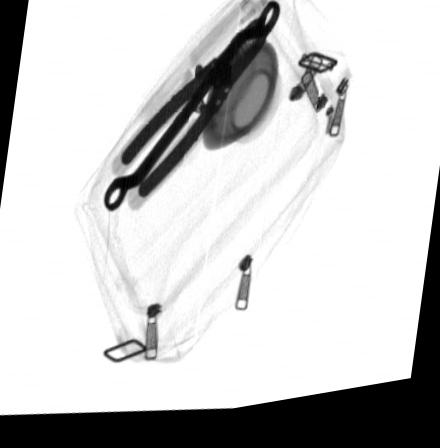Pliers: (120, 22, 268, 203)
Wrench: (103, 10, 279, 213)
